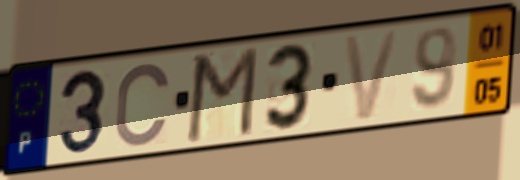3: (55, 66, 113, 158), (263, 40, 314, 134)
9: (410, 24, 460, 113)
C: (112, 60, 174, 150)
M: (182, 43, 262, 146)
V: (341, 26, 404, 125)
